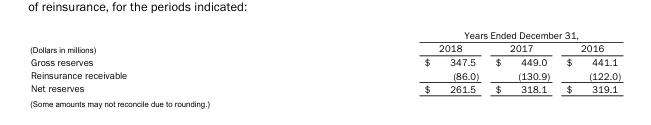table: (29, 28, 620, 94)
table column: (29, 28, 274, 94), (274, 28, 486, 94), (486, 28, 557, 94), (557, 28, 620, 94)
table column header: (29, 28, 620, 54)
table row: (29, 54, 620, 68), (29, 28, 620, 41), (29, 41, 620, 54), (29, 68, 620, 81), (29, 81, 620, 94)
table spanning cell: (29, 28, 274, 54), (274, 28, 620, 41)
